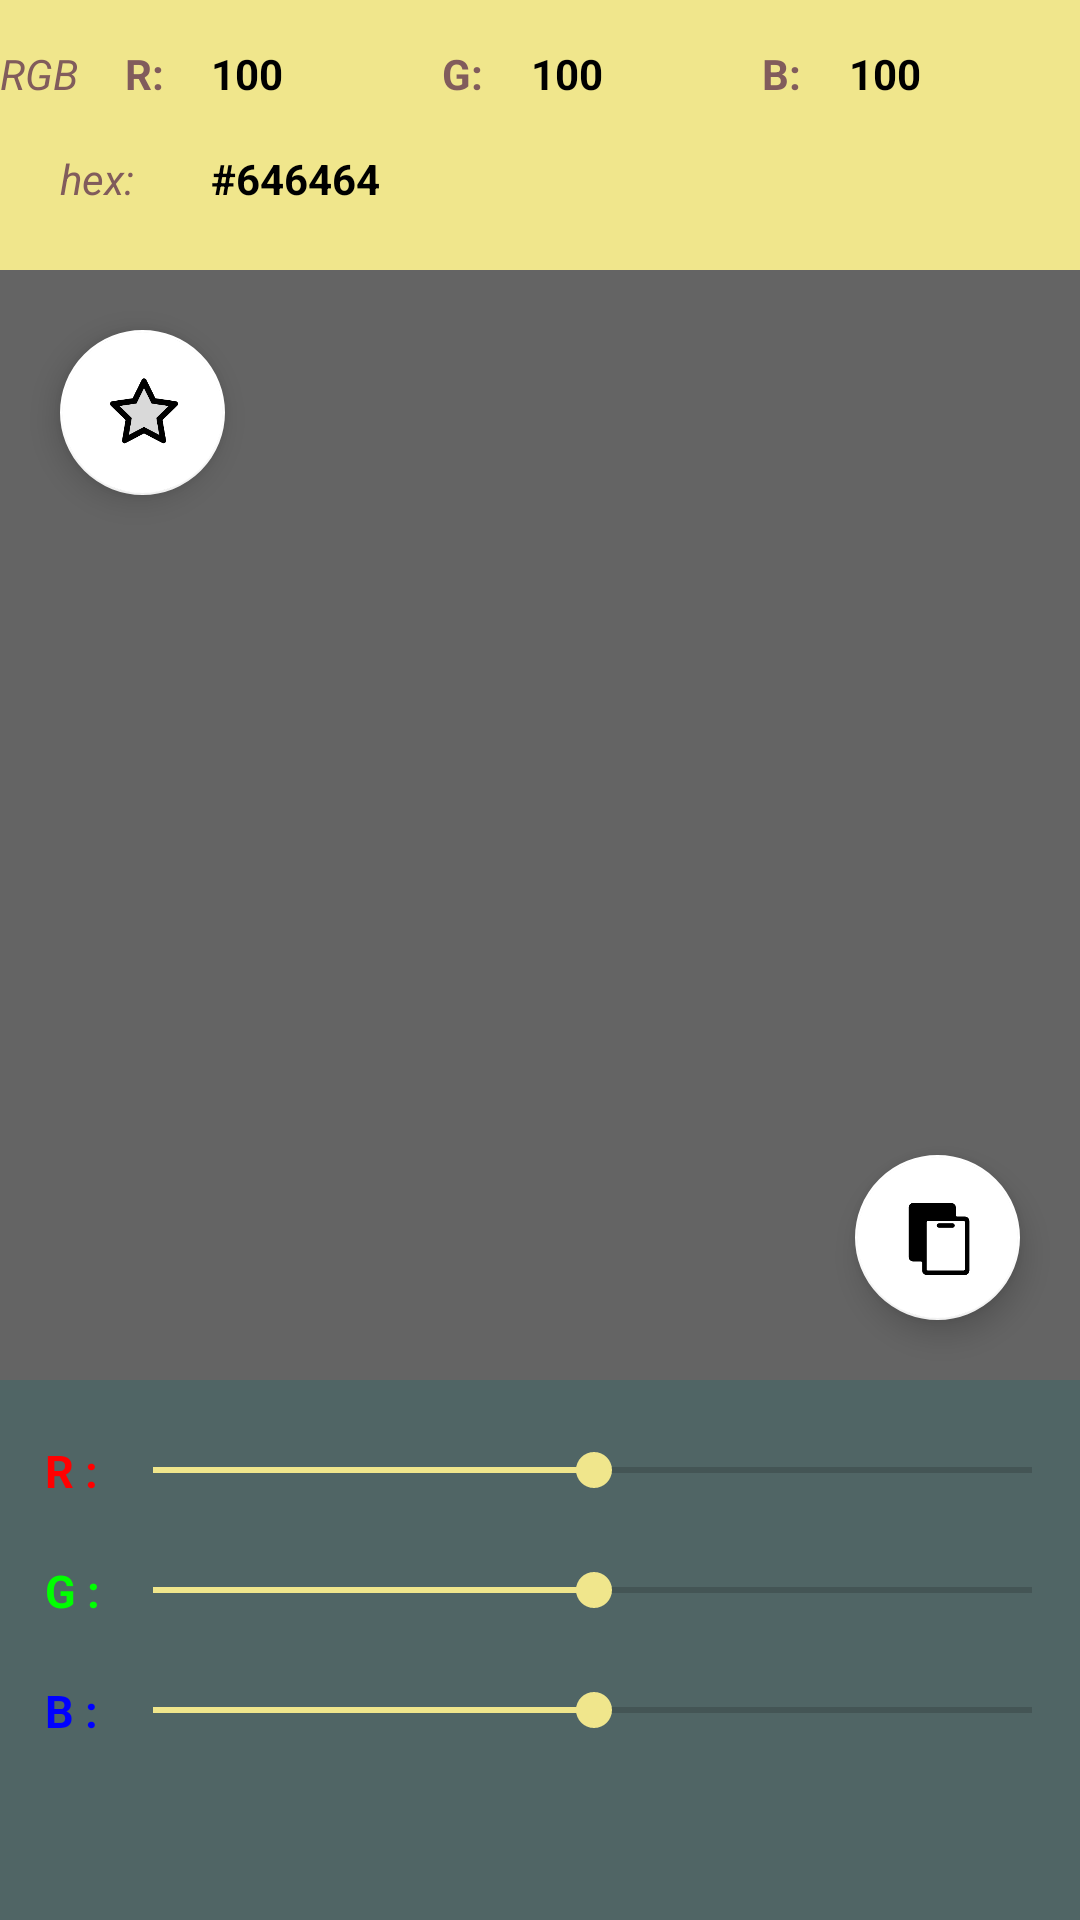

Locate icon controls on the screen. Image size 1080×1920, boxes as (x1, y1, x2, y2).
staroff: (60, 330, 225, 495)
